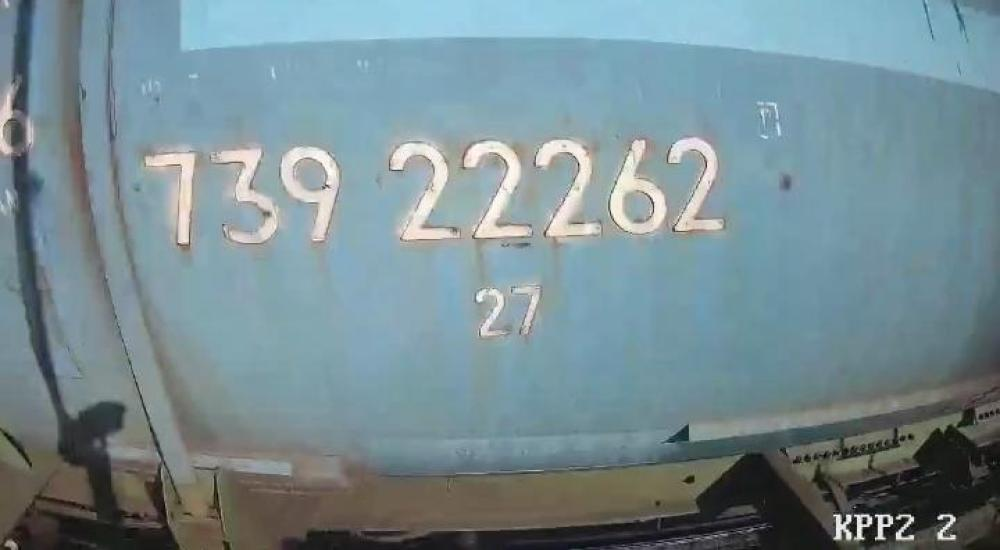Wagon-number: (142, 136, 736, 245)
